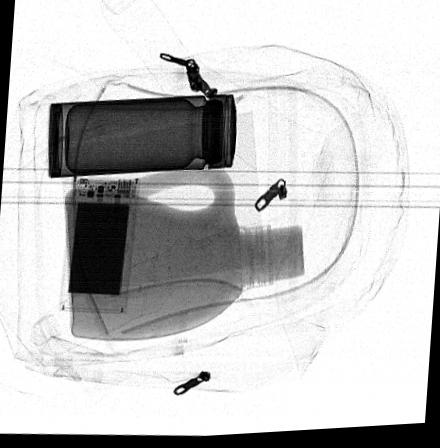Powerbank: (59, 177, 142, 315)
